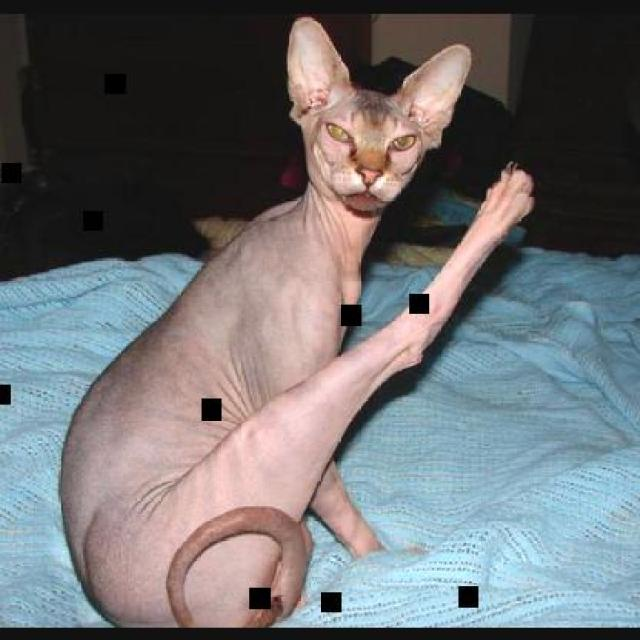unauthorized: (57, 16, 535, 626)
